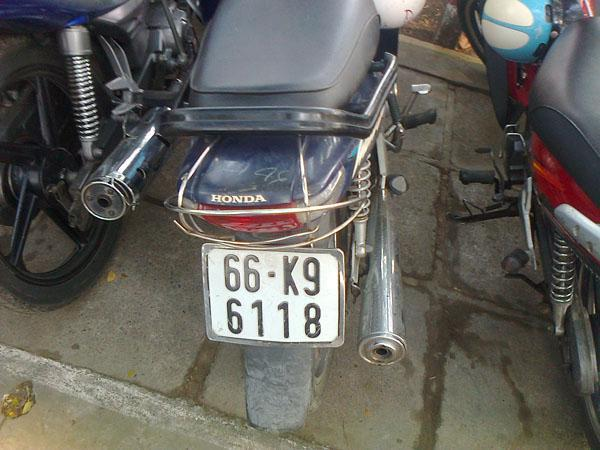License_Plate: (207, 249, 342, 347)
